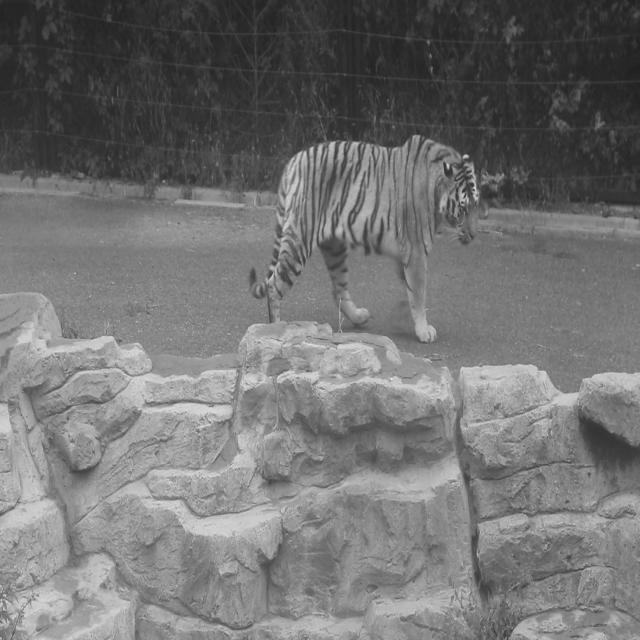Tiger: (248, 132, 480, 344)
